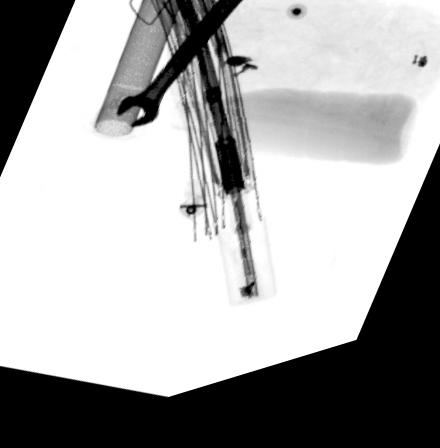Wrench: (114, 0, 271, 136)
